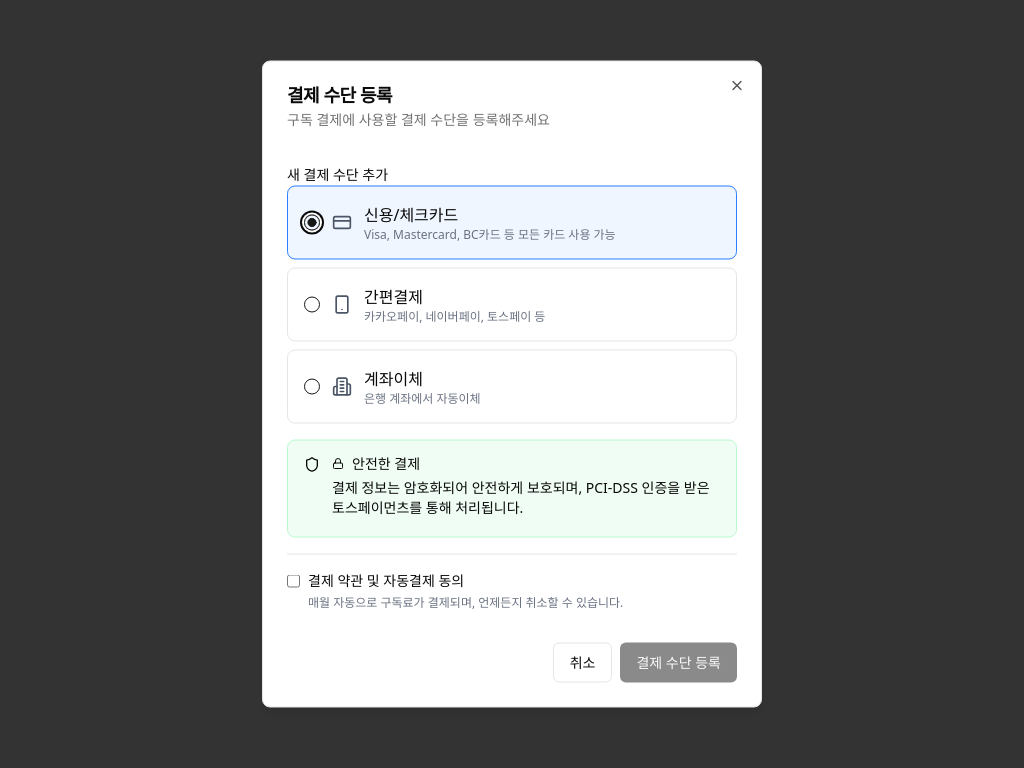
it: PaymentMethodModal › 약관 동의 › should enable submit button when terms accepted
Click the checkbox at point(294, 581), box [287,574,300,588]
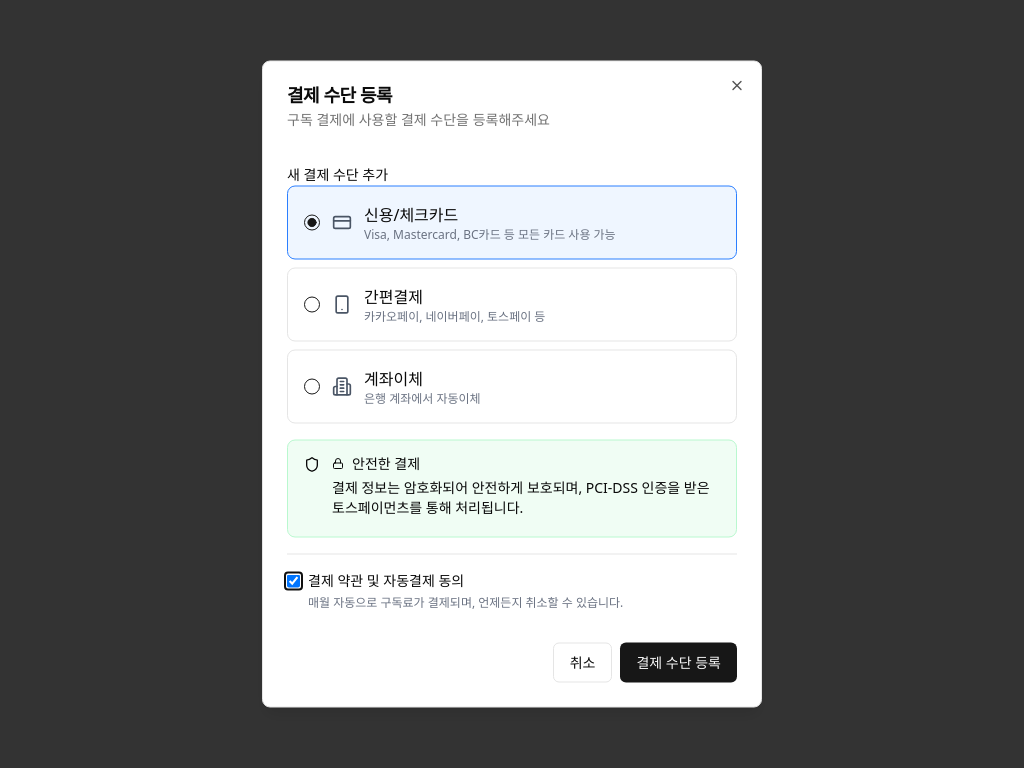
expect the button "결제 수단 등록" is enabled: met, box [620,642,737,682]
